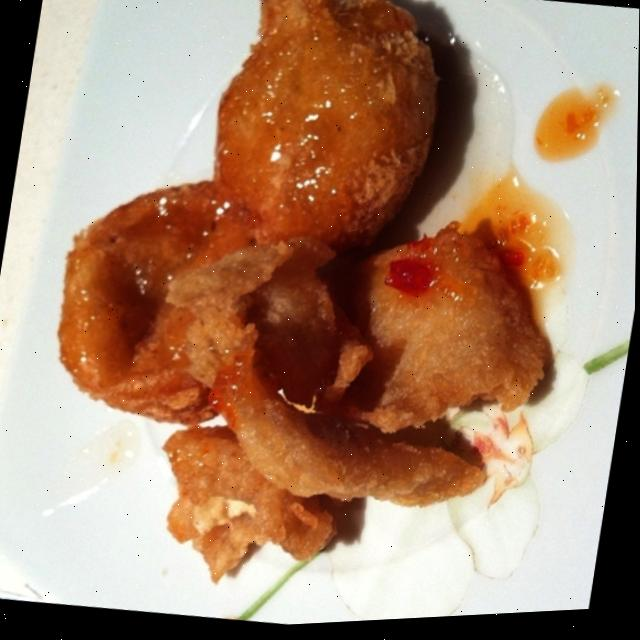炸货点心: (0, 0, 619, 639)
熟制海鲜: (0, 0, 619, 639)
